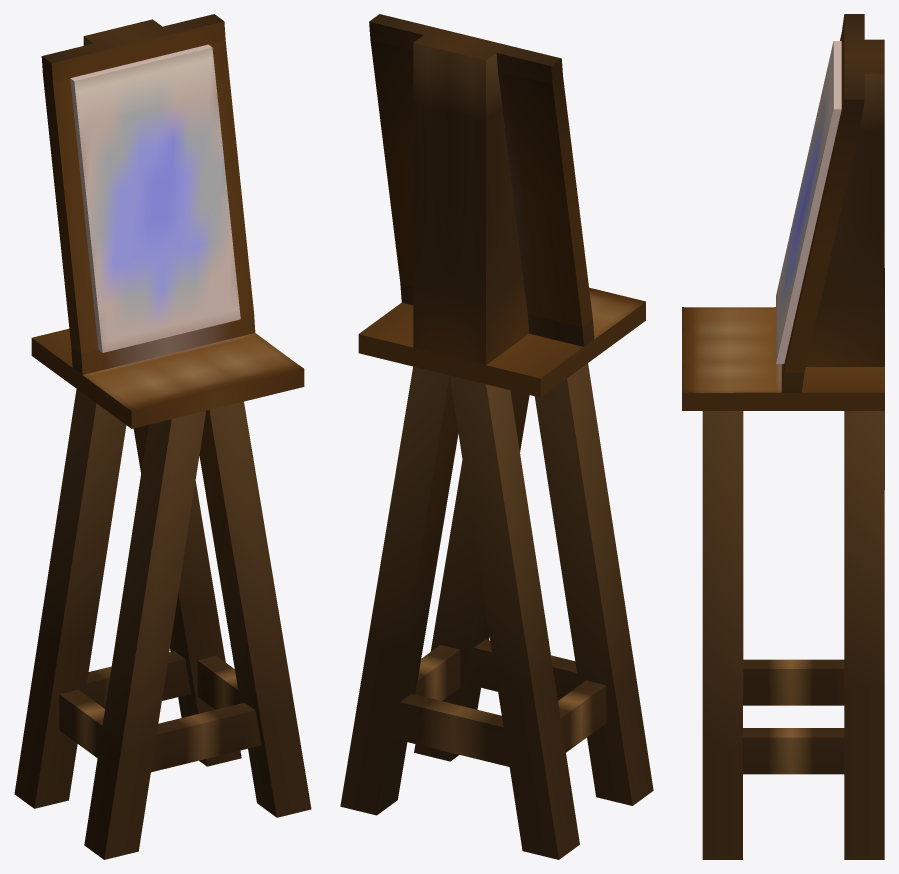
Rendered from easel_837x01.obj.
3 views of the same model, side by side, from view 1: azimuth 30°, elevation 25°; view 2: azimuth 150°, elevation 25°; view 3: azimuth 270°, elevation 25° (orthographic). The views are drawn at different scales.
Visible parts, largest first — view 1: Easel_837x1; view 2: Easel_837x1; view 3: Easel_837x1.
Boxes of the visible parts, box(x1,y1,x2,y2) form: Easel_837x1: box(14, 14, 311, 859); Easel_837x1: box(340, 14, 653, 859); Easel_837x1: box(682, 14, 884, 859).
Bounding box in the file's own units: 1.2 × 4.1 × 1.
